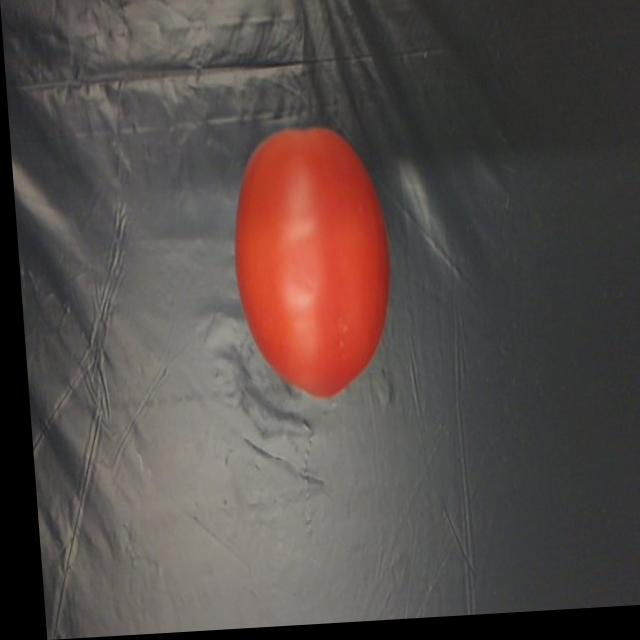kirmizi: (200, 98, 418, 424)
